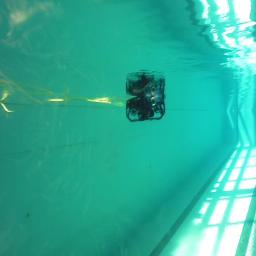Full: (126, 97, 165, 122)
front: (125, 96, 166, 124)
